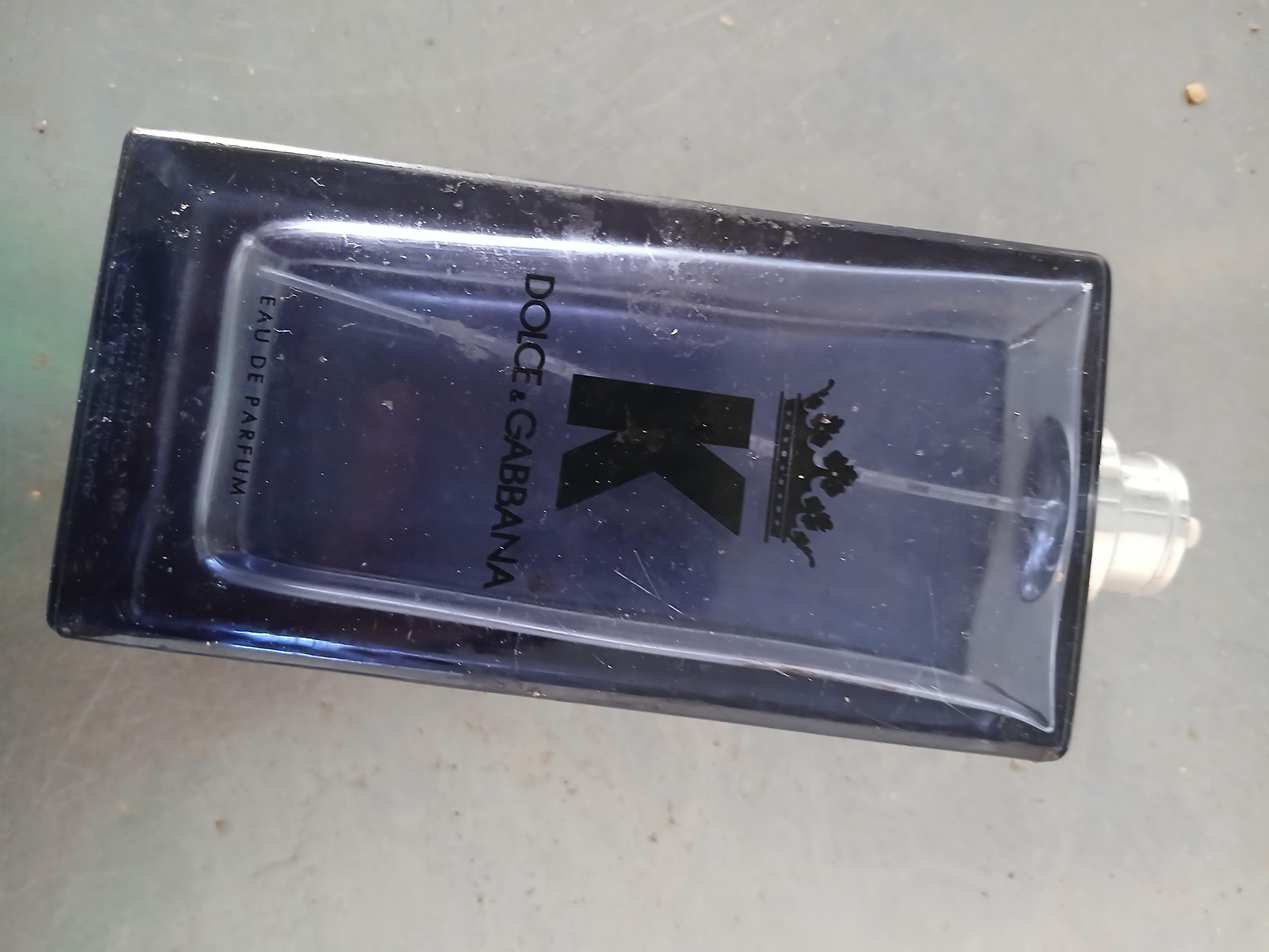Vidrio: (45, 127, 1111, 763)
